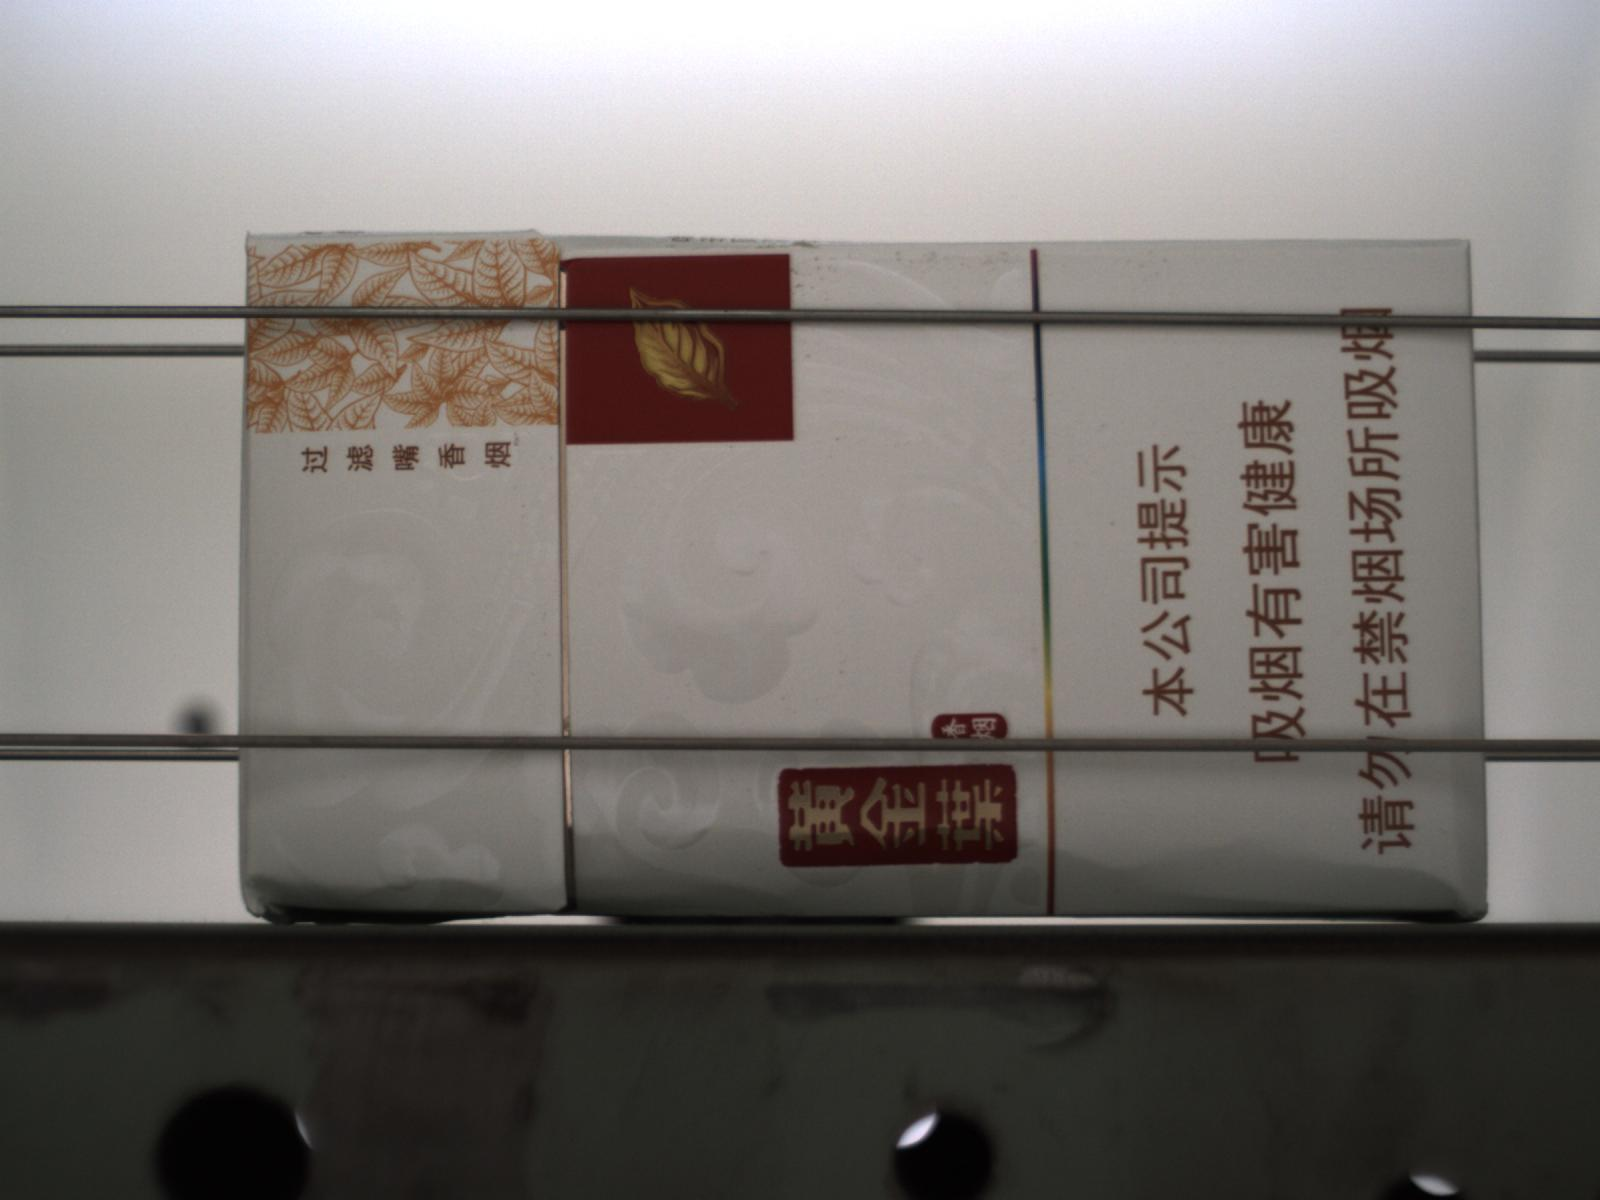boxDamage_slight: (504, 842, 1494, 926)
dirtySpot: (1109, 518, 1119, 529), (1160, 256, 1170, 265), (835, 435, 844, 444), (805, 350, 814, 359), (838, 667, 847, 676)
gumDirt: (791, 248, 1022, 301)
lower_upwarp: (242, 876, 568, 928)
skewed_upper_0: (549, 231, 945, 263)
